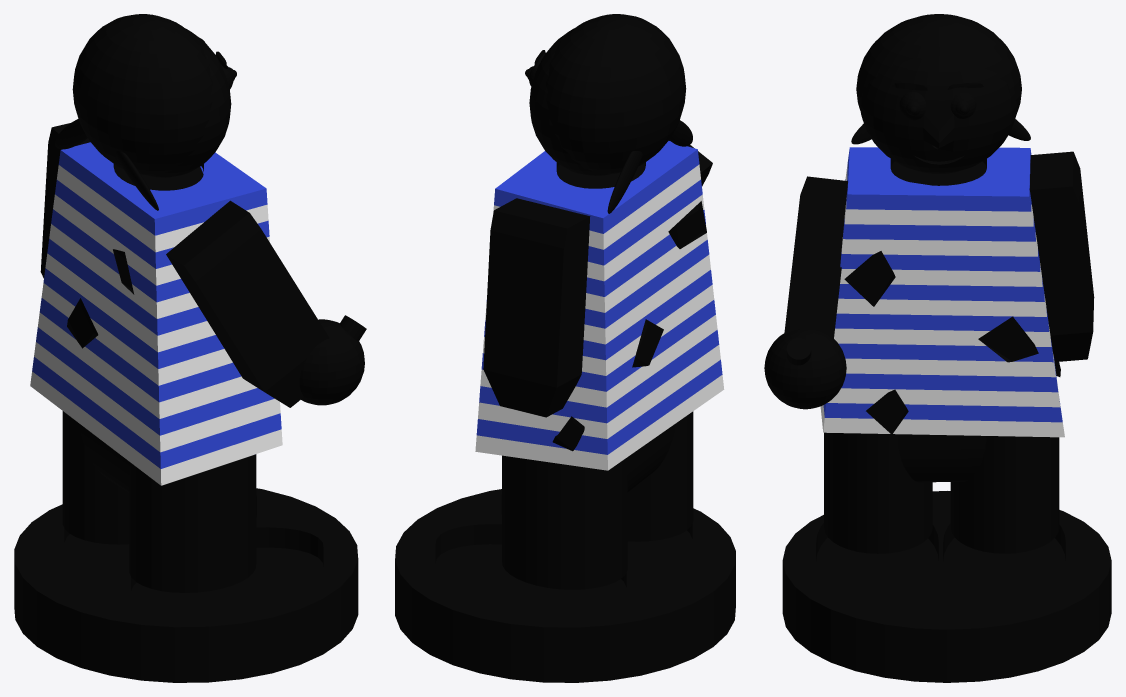
File: Каннонир.fbx
3 views of the same model, side by side, from view 1: azimuth 30°, elevation 25°; view 2: azimuth 150°, elevation 25°; view 3: azimuth 270°, elevation 25° (orthographic). The views are drawn at different scales.
Visible parts, largest first — view 1: Cube.015; view 2: Cube.015; view 3: Cube.015.
Boxes of the visible parts, x1,y1,x2,y2 form: Cube.015: (14, 14, 366, 682); Cube.015: (395, 14, 735, 682); Cube.015: (764, 14, 1111, 682).
Size of the model in its own units: 800 by 1541 by 844.
